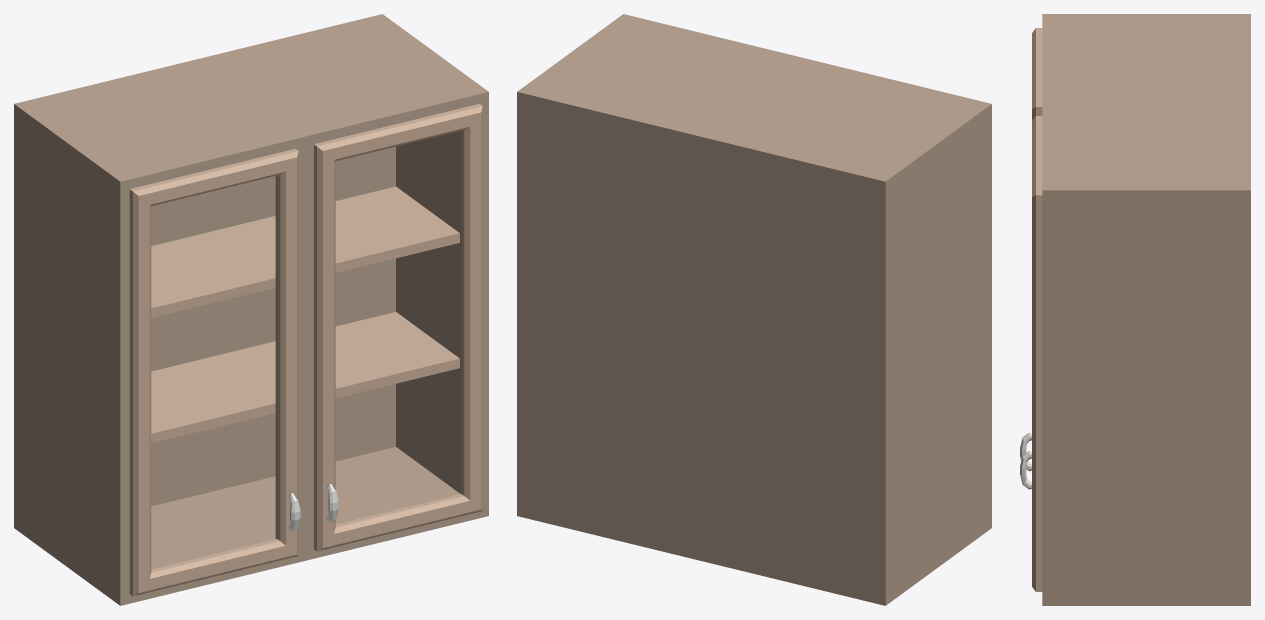
Rendered from Structure_Kitchen_Cabinet_Wall_Open.glb.
3 renders of one model, left to right at view 1: azimuth 30°, elevation 25°; view 2: azimuth 150°, elevation 25°; view 3: azimuth 270°, elevation 25°, orthographic. The views are drawn at different scales.
Visible parts, largest first — view 1: Structure_Kitchen_Cabinet_Wall_Open; view 2: Structure_Kitchen_Cabinet_Wall_Open; view 3: Structure_Kitchen_Cabinet_Wall_Open.
Part boxes in pixels (box(x1,y1,x2,y2)): Structure_Kitchen_Cabinet_Wall_Open: box(14, 14, 488, 605); Structure_Kitchen_Cabinet_Wall_Open: box(517, 14, 991, 605); Structure_Kitchen_Cabinet_Wall_Open: box(1020, 14, 1250, 605).
Bounding box in the file's own units: 1 × 1.1 × 0.5531.
